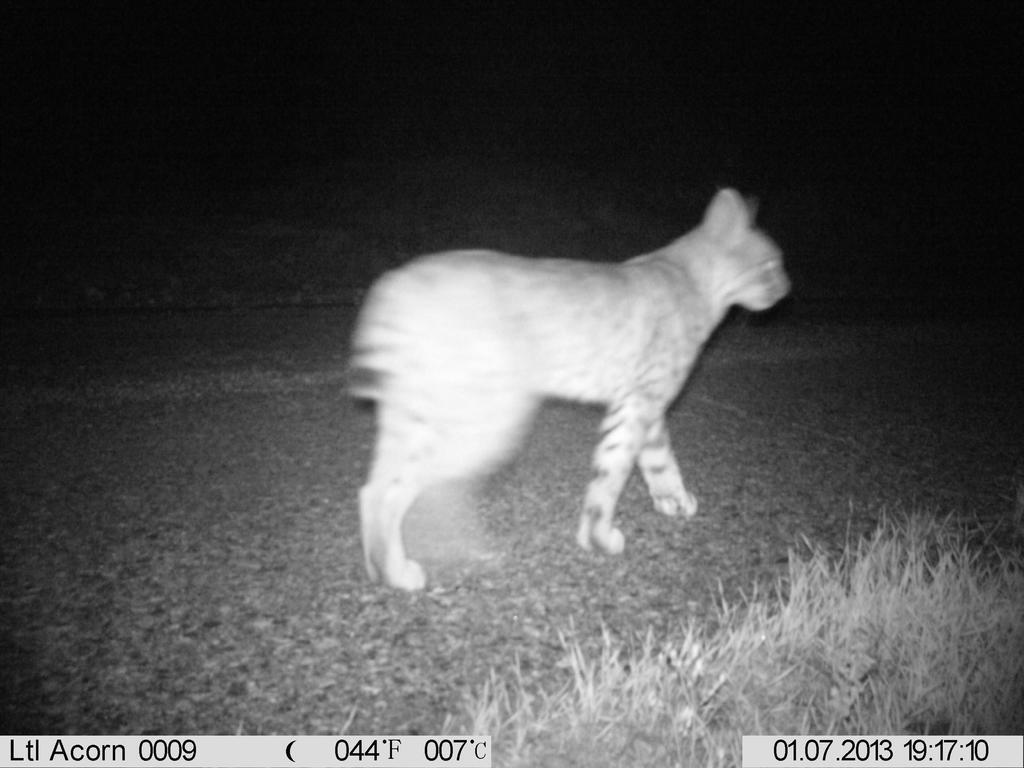bobcat: (327, 181, 801, 599)
